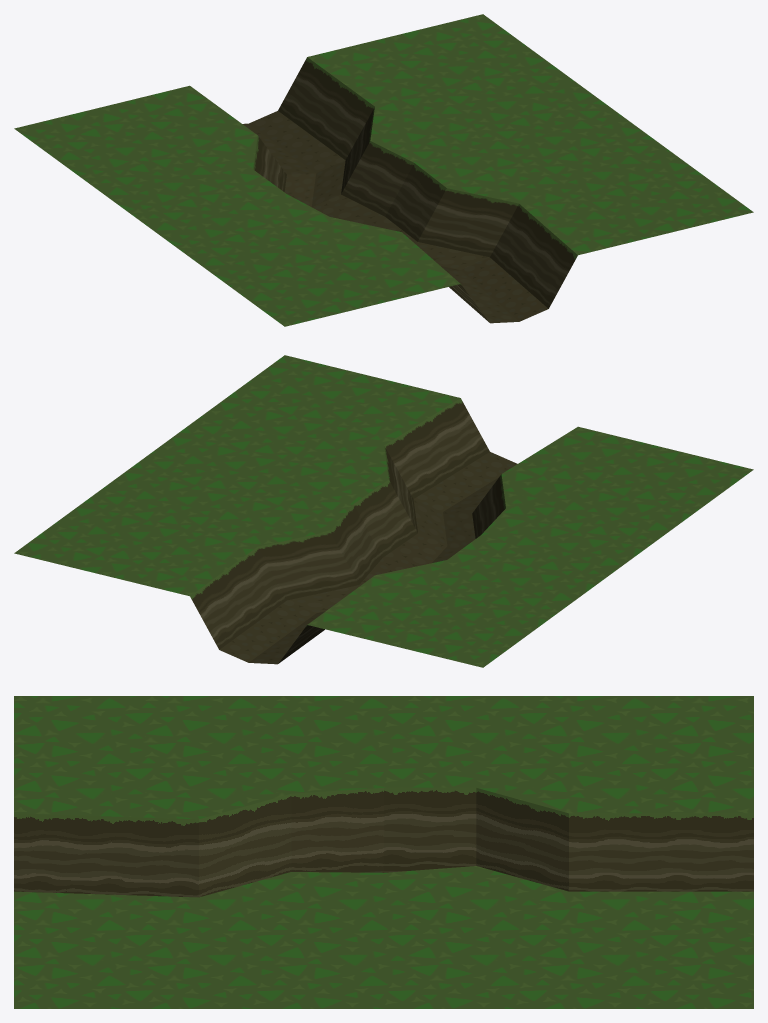
The model's file is chunk_0003.glb.
3 renders of one model, top to bottom at view 1: azimuth 30°, elevation 25°; view 2: azimuth 150°, elevation 25°; view 3: azimuth 270°, elevation 25°, orthographic. The views are drawn at different scales.
Parts seen in each view (by area): view 1: chunk_0003; view 2: chunk_0003; view 3: chunk_0003.
Boxes of the visible parts, box(x1,y1,x2,y2) form: chunk_0003: box(14, 14, 753, 326); chunk_0003: box(14, 355, 753, 667); chunk_0003: box(14, 696, 753, 1008).
Size of the model in its own units: 10 by 1.06 by 10.
Materials: 3 (3 with a texture image).
